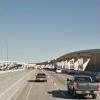Car: (31, 69, 50, 85)
